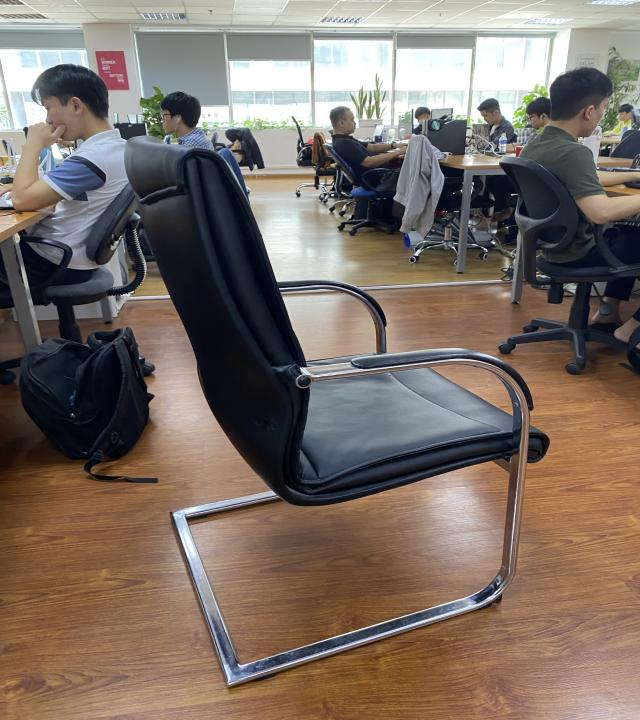SS_03: (119, 129, 552, 694)
